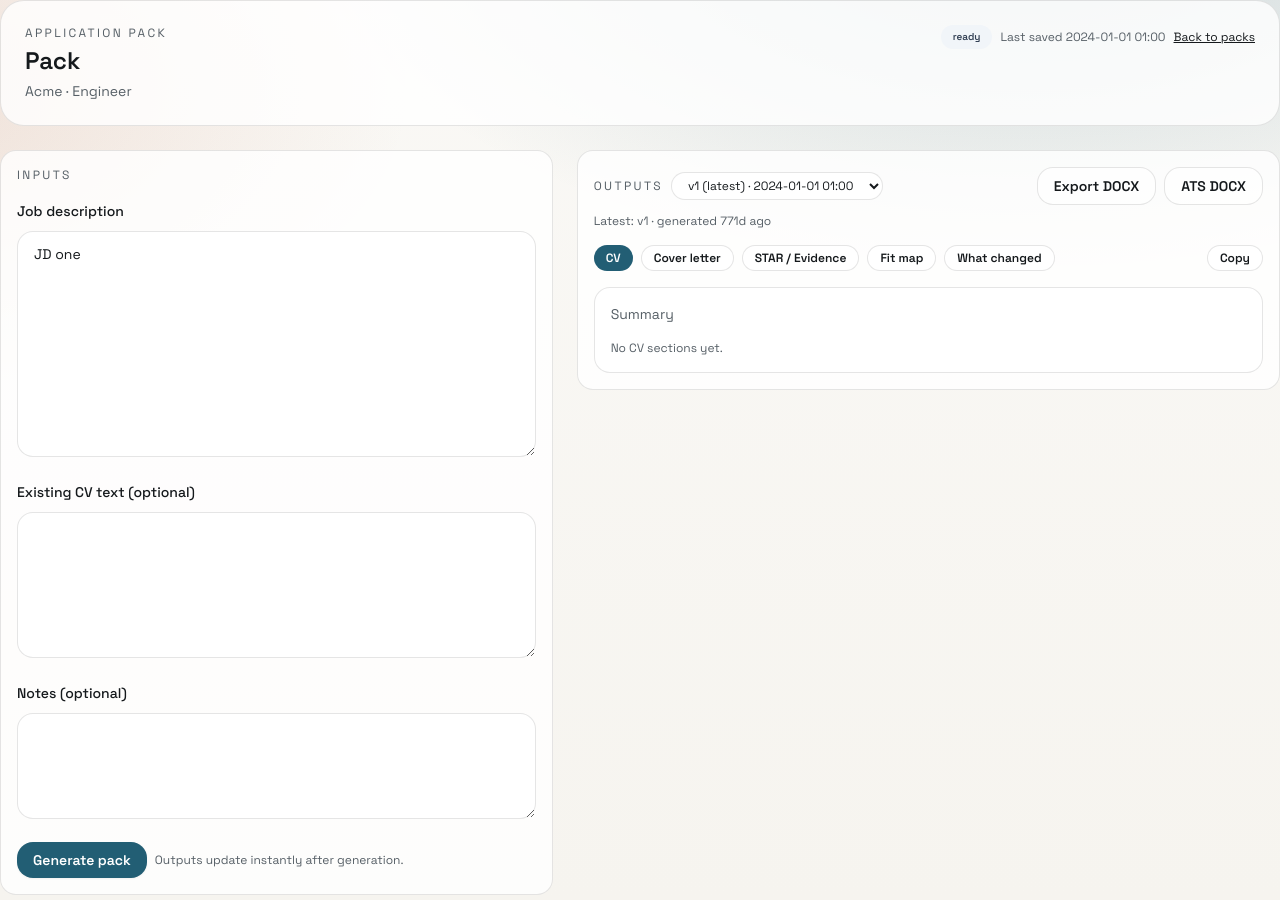
Test case: pack detail UI › shows what changed empty state when no previous version exists
Click the button "What changed": (1000, 258) x1=944 y1=245 x2=1055 y2=271
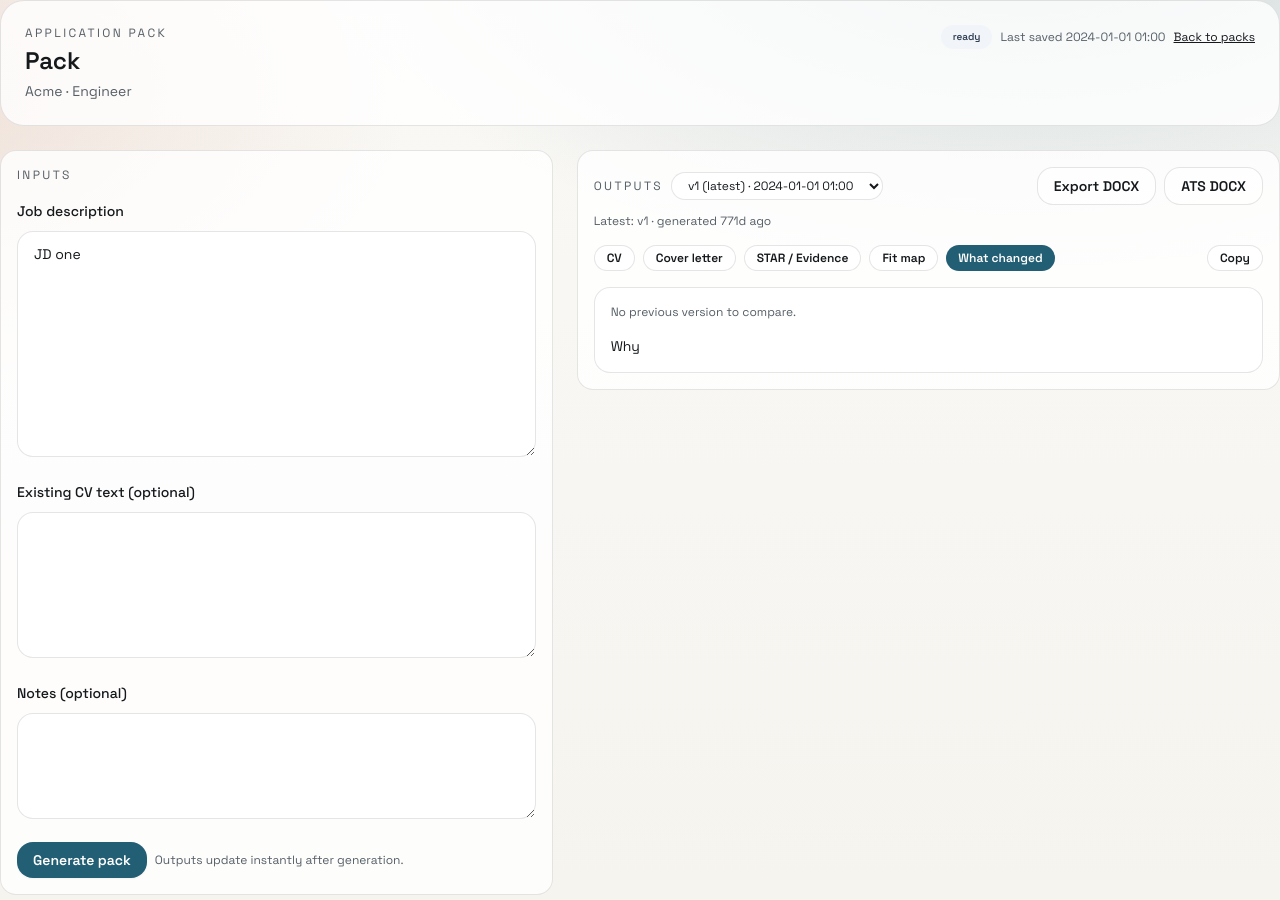
Check: the text "No previous version to compare." is shown, box x1=611 y1=304 x2=796 y2=320
